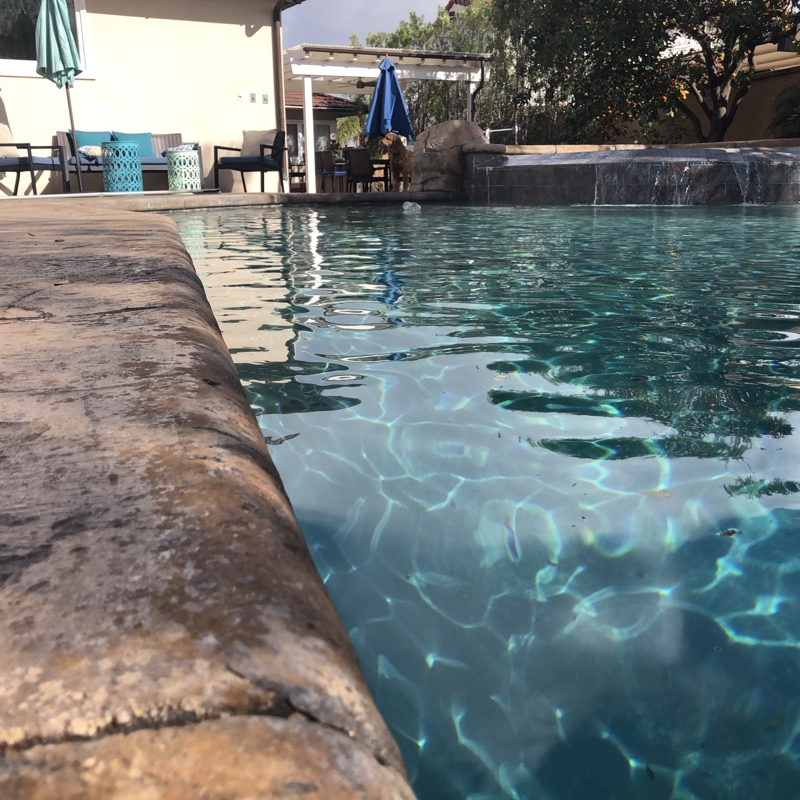Plastic Bottle: (396, 197, 422, 217)
